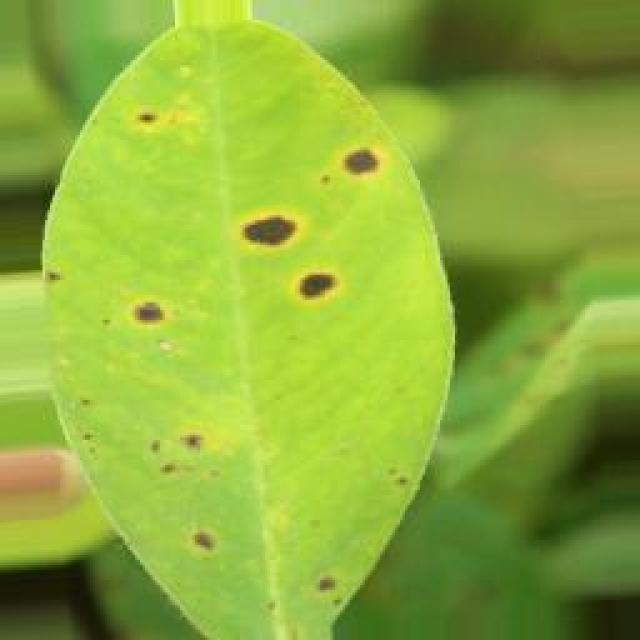Early_leaf_spot: (220, 155, 365, 331), (119, 390, 217, 500), (92, 280, 196, 367), (320, 112, 414, 201), (266, 548, 363, 626), (160, 502, 238, 574), (117, 100, 185, 165), (36, 252, 100, 312)
